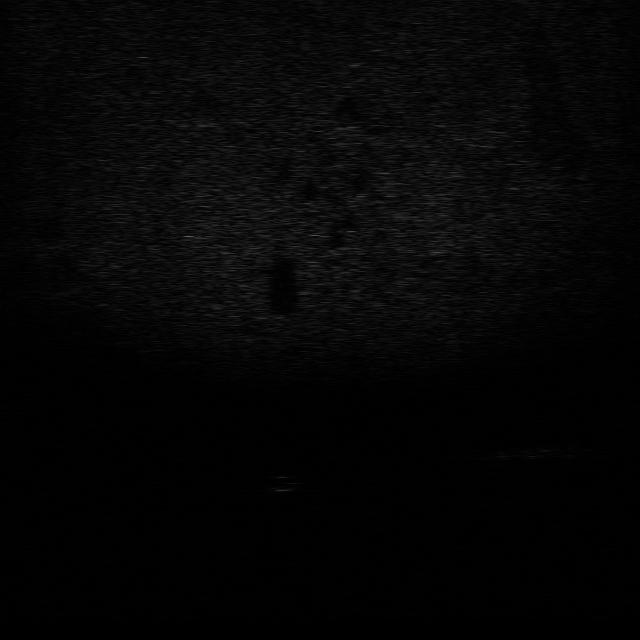ball: (264, 472, 302, 496)
human body: (481, 433, 584, 466)
